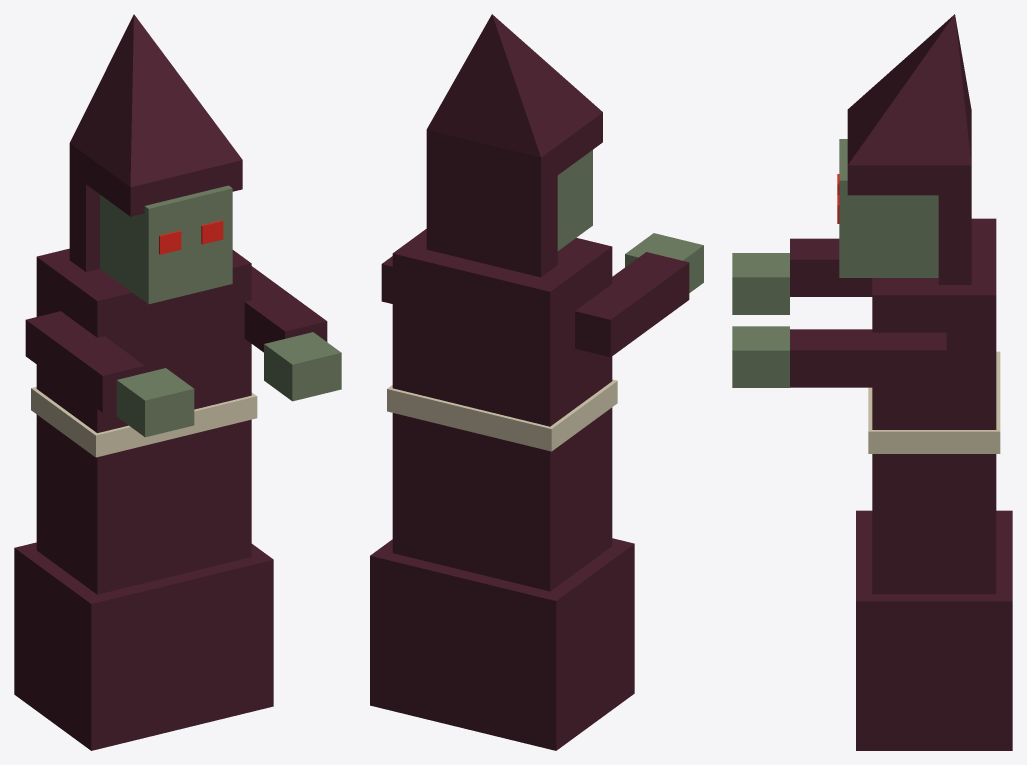
The model's file is ghoul_mage_placeholder.glb.
The picture shows the model from 3 angles, left to right: view 1: azimuth 30°, elevation 25°; view 2: azimuth 150°, elevation 25°; view 3: azimuth 270°, elevation 25°; orthographic projection. The views are drawn at different scales.
Visible parts, largest first — view 1: ghoul_mage_placeholder; view 2: ghoul_mage_placeholder; view 3: ghoul_mage_placeholder.
Part boxes in pixels (x1=…): ghoul_mage_placeholder: x1=14, y1=14, x2=341, y2=750; ghoul_mage_placeholder: x1=370, y1=14, x2=703, y2=750; ghoul_mage_placeholder: x1=732, y1=14, x2=1012, y2=750.
Bounding box in the file's own units: 0.64 × 1.85 × 0.68.
1 material, 1 textured.
